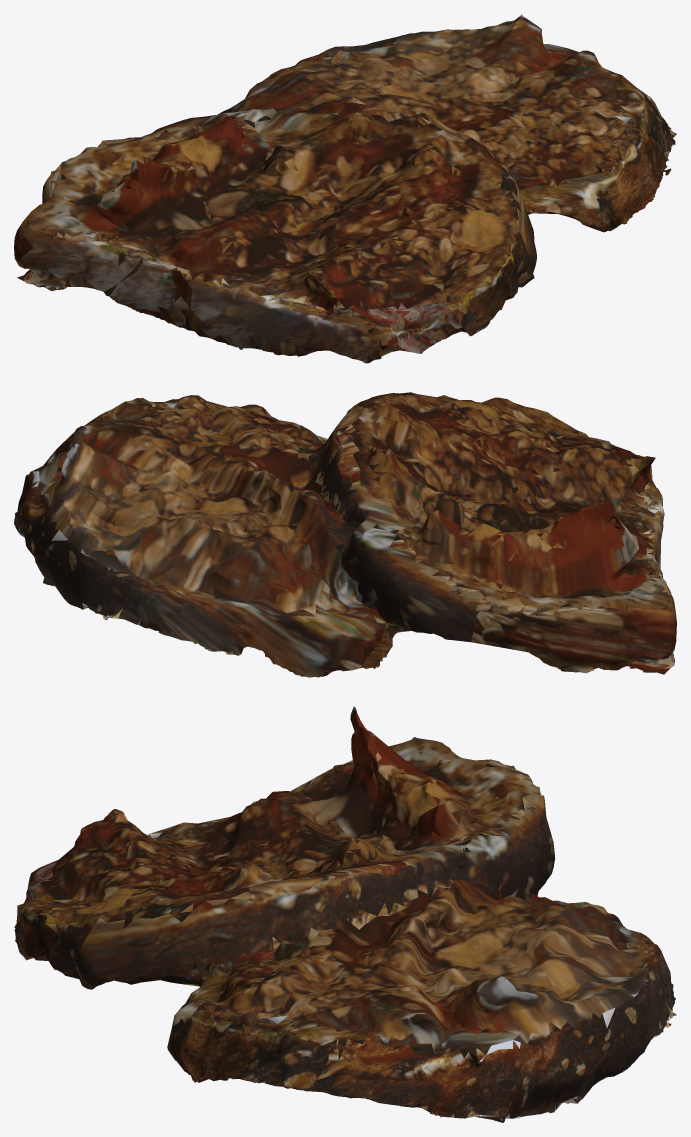
Rendered from panes_pando5.obj.
3 renders of one model, top to bottom at view 1: azimuth 30°, elevation 25°; view 2: azimuth 150°, elevation 25°; view 3: azimuth 270°, elevation 25°, orthographic. The views are drawn at different scales.
Visible parts, largest first — view 1: Panes_Panes_Panes, Panes_Panes_Borde_4, Panes_Panes_Borde_3, Panes_Panes_Borde_2; view 2: Panes_Panes_Panes, Panes_Panes_Borde_2, Panes_Panes_Borde_3, Panes_Panes_Borde_4; view 3: Panes_Panes_Panes, Panes_Panes_Borde_2, Panes_Panes_Borde_3, Panes_Panes_Borde_4.
Part boxes in pixels (x1=…): Panes_Panes_Panes: x1=19, y1=14, x2=674, y2=363; Panes_Panes_Borde_4: x1=21, y1=172, x2=646, y2=363; Panes_Panes_Borde_3: x1=14, y1=37, x2=676, y2=333; Panes_Panes_Borde_2: x1=55, y1=44, x2=661, y2=265; Panes_Panes_Panes: x1=37, y1=392, x2=676, y2=676; Panes_Panes_Borde_2: x1=14, y1=397, x2=555, y2=677; Panes_Panes_Borde_3: x1=18, y1=392, x2=676, y2=674; Panes_Panes_Borde_4: x1=315, y1=416, x2=675, y2=659; Panes_Panes_Panes: x1=14, y1=706, x2=651, y2=1122; Panes_Panes_Borde_2: x1=45, y1=768, x2=676, y2=1121; Panes_Panes_Borde_3: x1=17, y1=743, x2=676, y2=1120; Panes_Panes_Borde_4: x1=14, y1=760, x2=353, y2=1082.
Size of the model in its own units: 1.74 by 0.3882 by 1.39.
